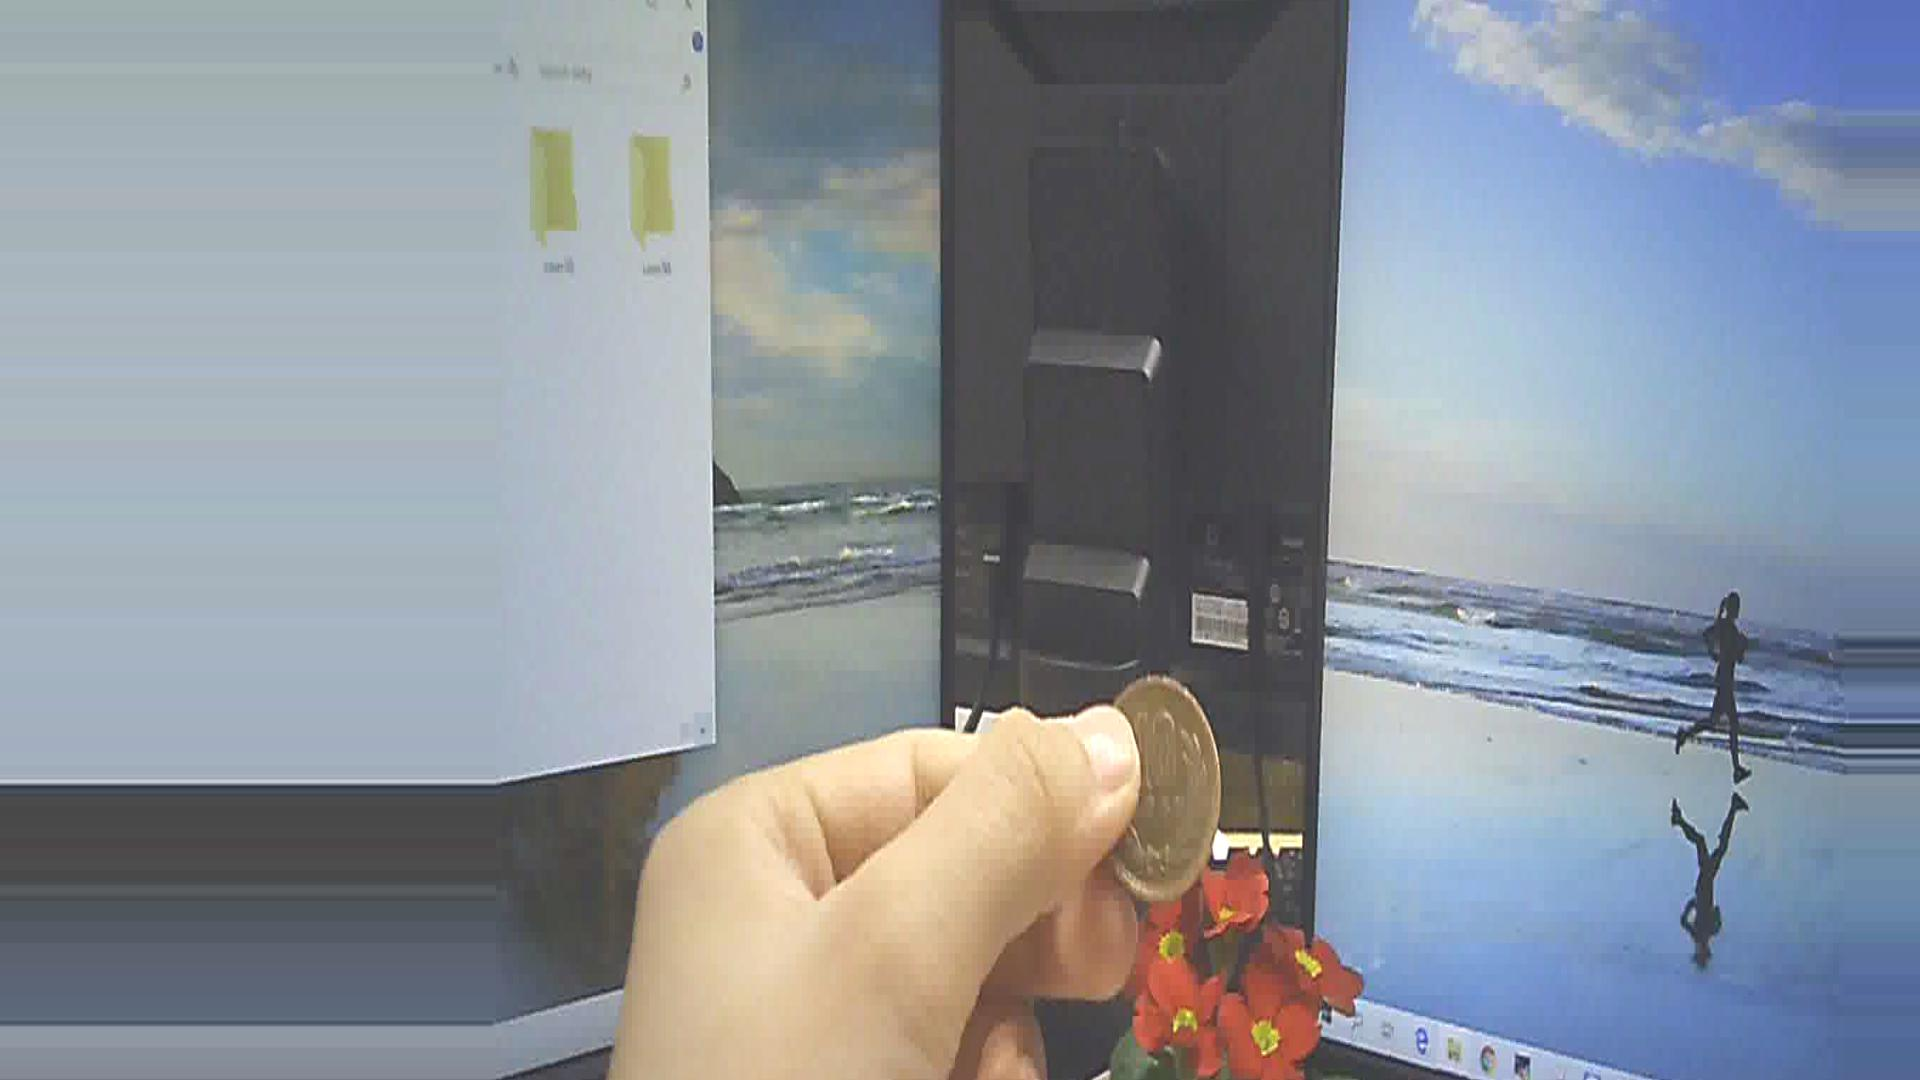10 Yen: (1102, 665, 1221, 886)
